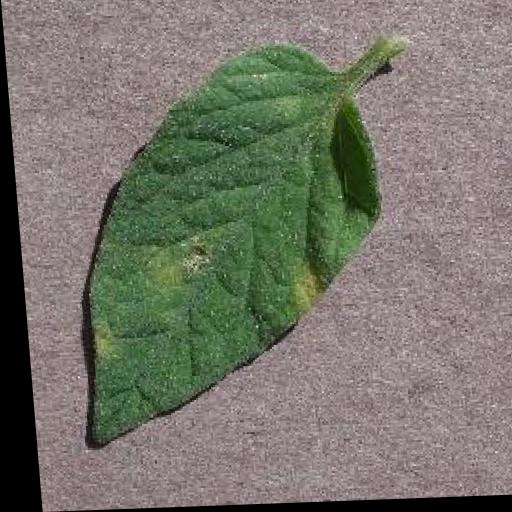Leaf Mold: (55, 41, 393, 450)
